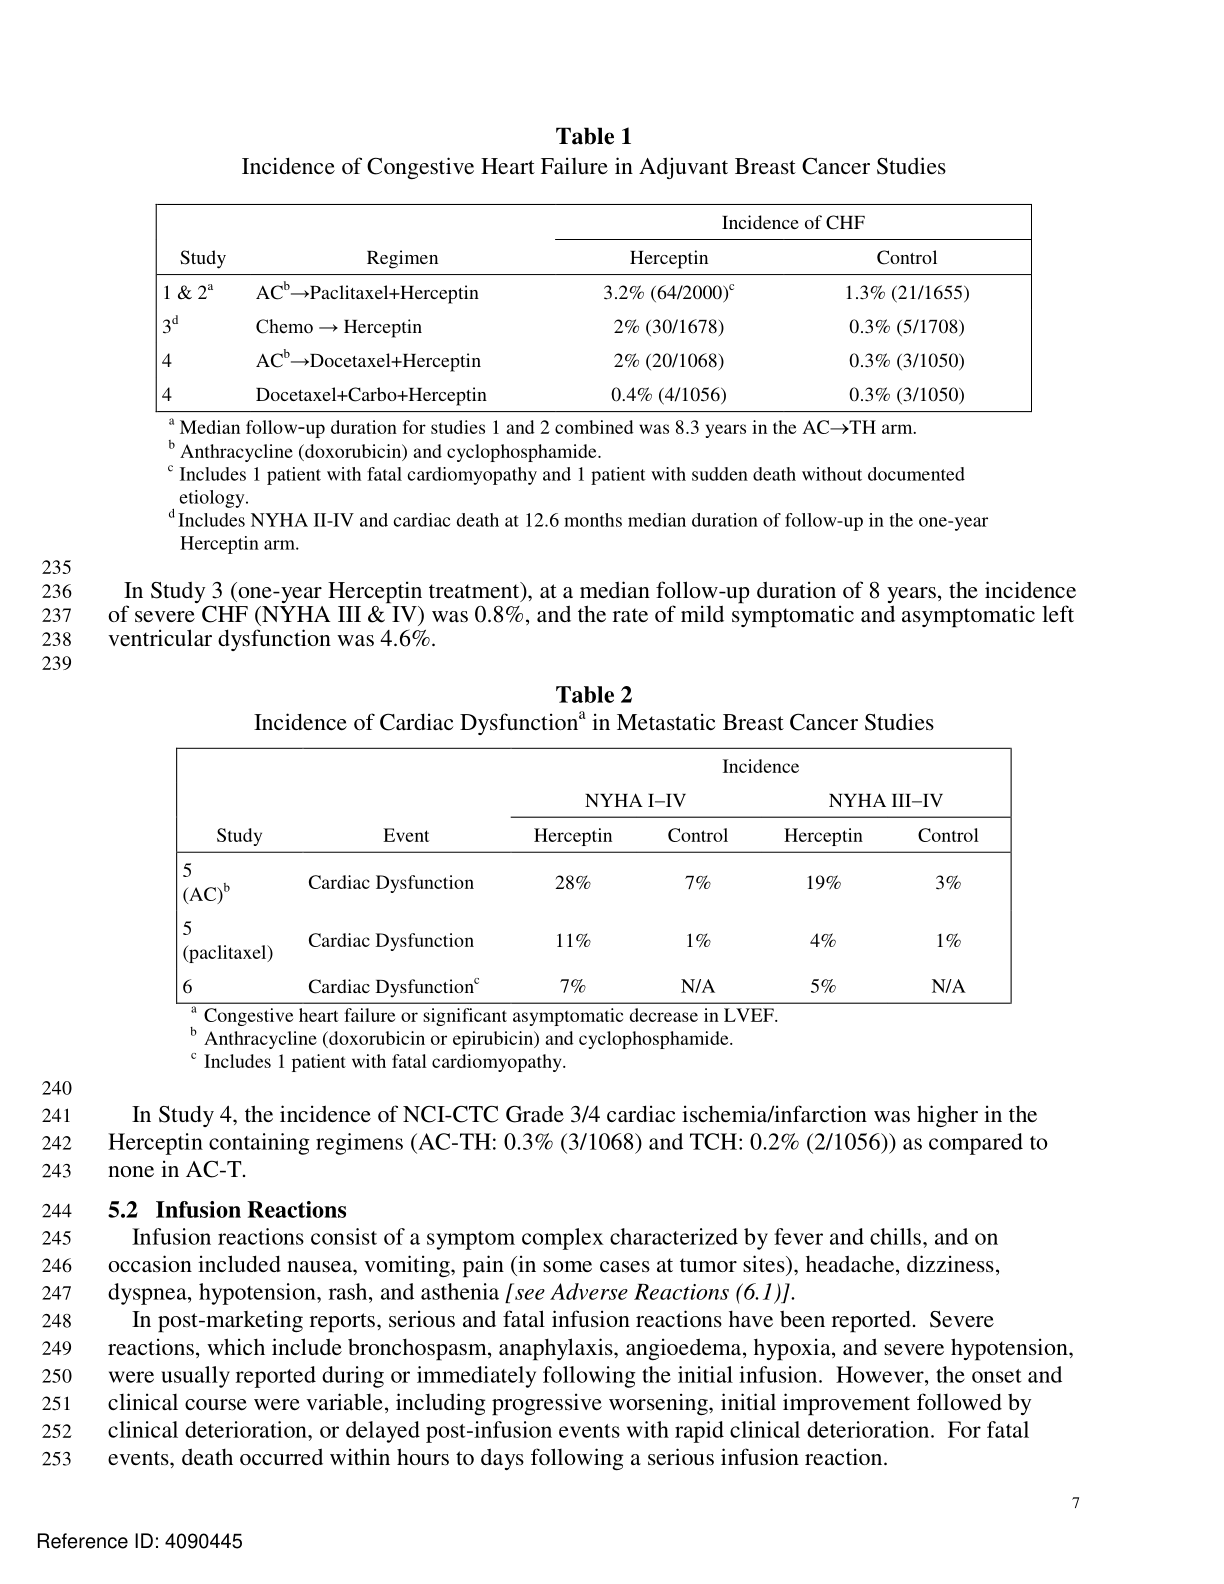partial_lined_merged_cells: (174, 744, 1017, 1005), (156, 201, 1035, 413)
